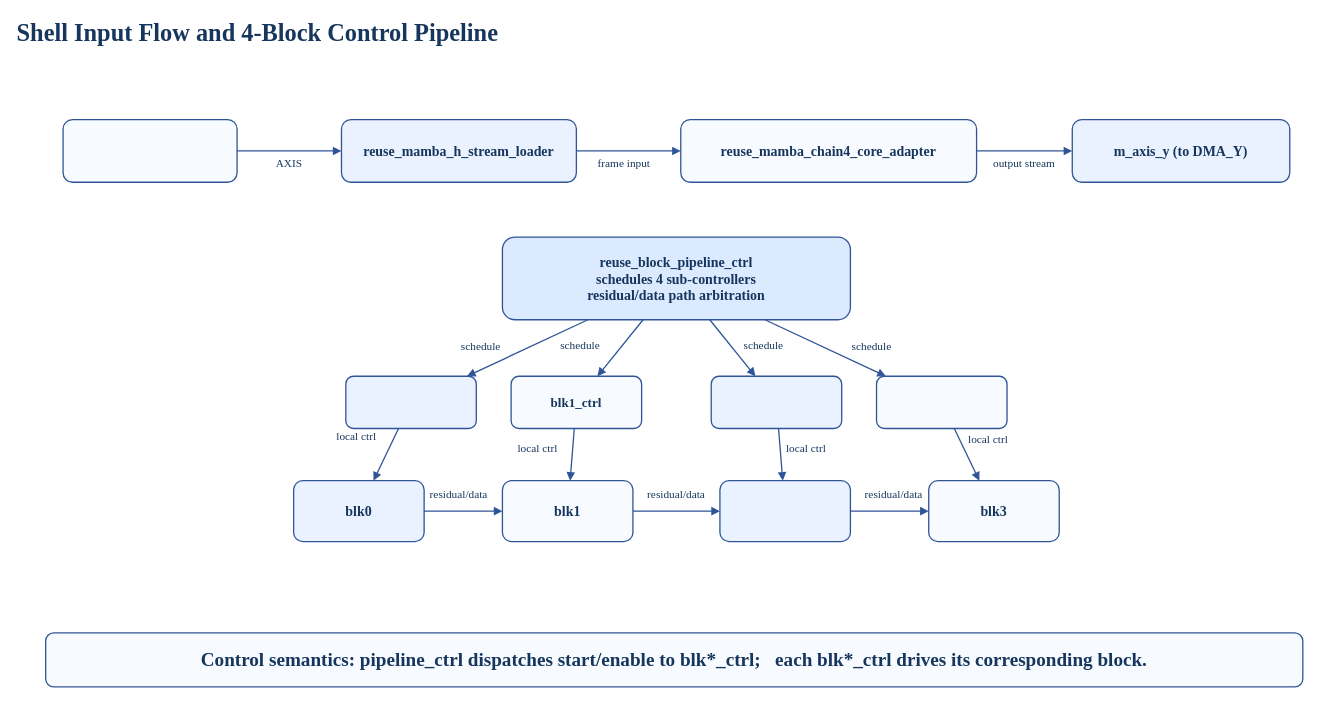
Some shapes in this 1318 by 702 pixel diagram are drawn without their labels. The shapes that lost their labels are listed below. From the top down, each one's centre as x and y in pixels, then its label:
At pixel 149 151: "s_axis_h (DMA_H)".
At pixel 411 402: "blk0_ctrl".
At pixel 776 402: "blk2_ctrl".
At pixel 941 402: "blk3_ctrl".
At pixel 785 511: "blk2".
